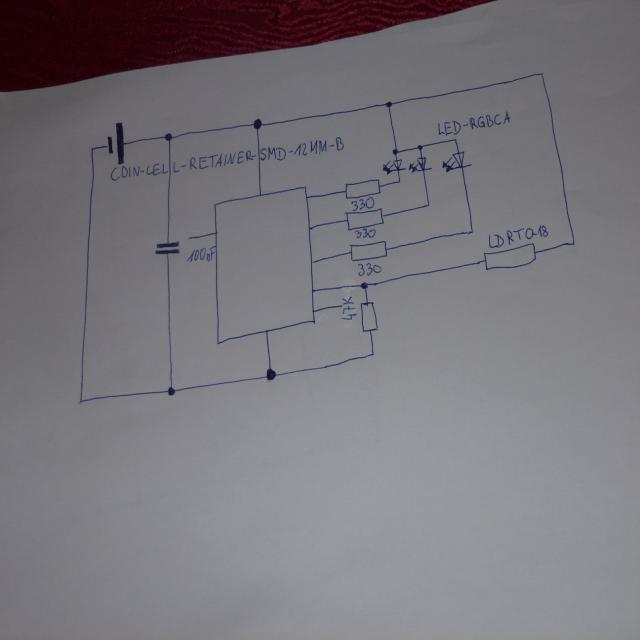capacitor: (154, 238, 183, 256)
diode: (440, 149, 473, 173), (382, 156, 407, 175), (408, 155, 433, 174)
junction: (263, 366, 278, 382), (250, 116, 264, 132), (359, 279, 372, 292), (163, 130, 173, 143), (166, 384, 175, 397), (416, 142, 424, 150), (385, 99, 392, 108), (77, 396, 83, 406), (89, 144, 95, 154), (538, 68, 544, 78), (452, 135, 459, 143), (425, 200, 431, 208), (392, 146, 398, 154), (570, 239, 576, 247), (468, 227, 474, 234), (369, 350, 375, 357), (397, 177, 401, 184)
resistor: (482, 240, 537, 272), (343, 206, 384, 231), (348, 238, 387, 262), (344, 177, 381, 200), (358, 300, 379, 332)
source: (106, 121, 125, 165)
text: (109, 135, 344, 182), (436, 109, 510, 137), (487, 222, 548, 249), (185, 244, 215, 265), (340, 294, 357, 322), (356, 260, 382, 277), (352, 224, 377, 240), (350, 196, 376, 210)
